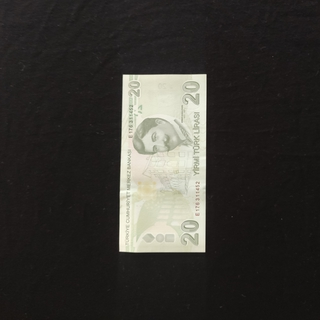20TLBack: (119, 74, 206, 253)
